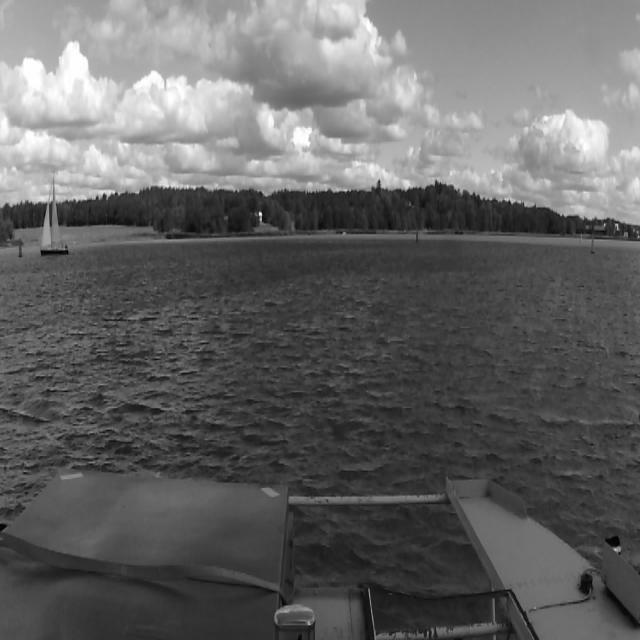buoy: (18, 240, 22, 258), (591, 236, 595, 254), (416, 228, 419, 242), (580, 233, 582, 242)
ship: (40, 171, 69, 257)
